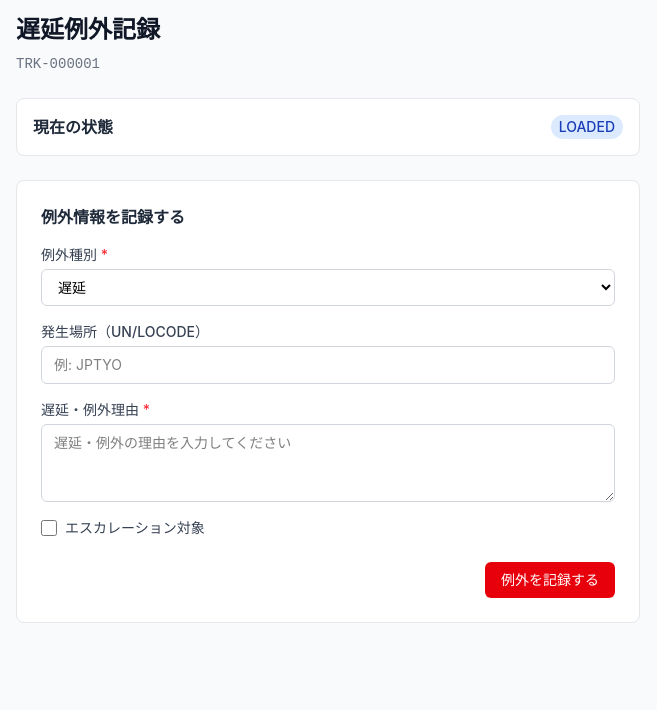
TrackingExceptionPage › LOST 選択時に紛失詳細フィールドが表示される
Select "紛失" in the dropdown labelled "例外種別 *" at [328, 288], box [41,269,615,306]
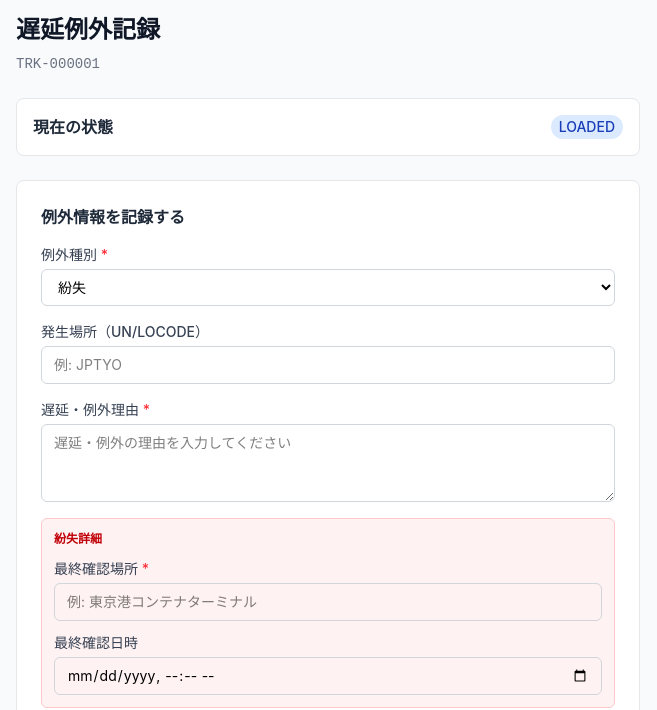
Result: the text "紛失詳細" is shown at [54,531,102,546]
Result: the field labelled "最終確認場所 *" is shown at [54,583,602,621]
